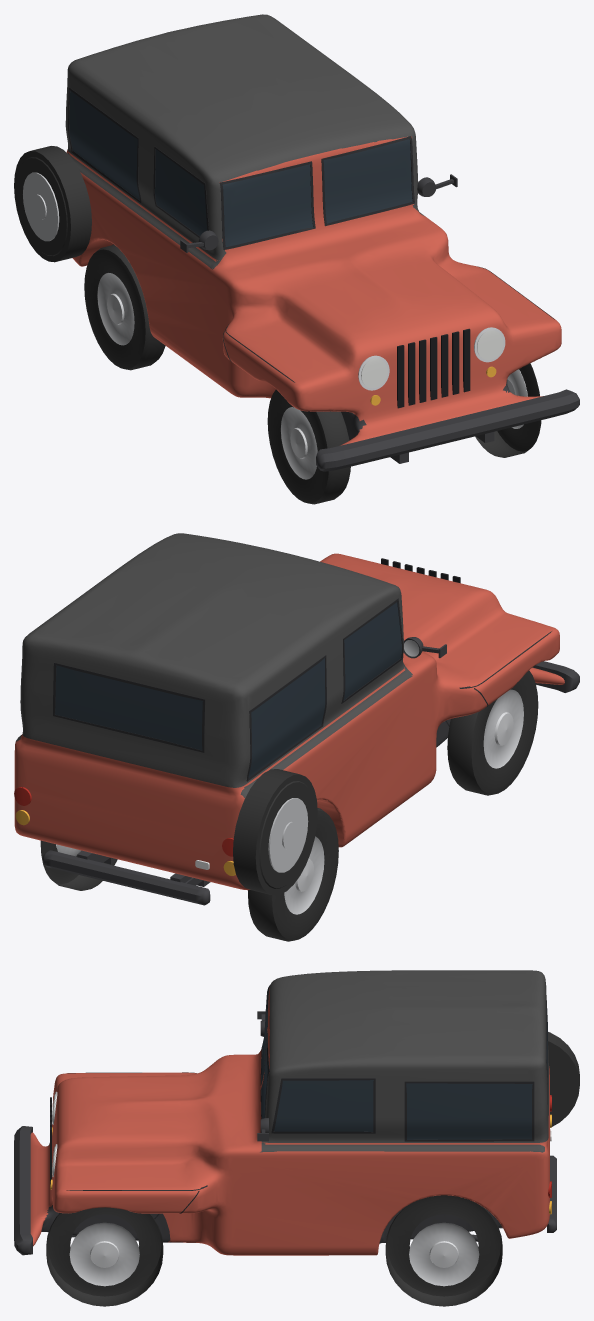
File: jeep.glb
The picture shows the model from 3 angles, top to bottom: view 1: azimuth 30°, elevation 25°; view 2: azimuth 150°, elevation 25°; view 3: azimuth 270°, elevation 25°; orthographic projection. The views are drawn at different scales.
Visible parts, largest first — view 1: paint, trim, glass, wheel_rr, wheel_fr, wheel_fl, headlights, mirrors; view 2: paint, trim, glass, wheel_fr, wheel_rr, wheel_rl, mirrors; view 3: paint, glass, wheel_rl, wheel_fl, trim.
Part boxes in pixels (x1,y1,x2,y2): paint: [65, 14, 561, 445]; trim: [14, 87, 579, 471]; glass: [69, 91, 412, 246]; wheel_rr: [84, 245, 165, 370]; wheel_fr: [267, 389, 350, 504]; wheel_fl: [475, 363, 541, 457]; headlights: [361, 330, 503, 388]; mirrors: [180, 174, 457, 252]; paint: [14, 533, 564, 890]; trim: [42, 558, 579, 905]; glass: [55, 602, 401, 777]; wheel_fr: [447, 670, 538, 795]; wheel_rr: [248, 808, 338, 941]; wheel_rl: [40, 840, 117, 890]; mirrors: [403, 637, 446, 658]; paint: [30, 970, 550, 1255]; glass: [261, 991, 547, 1139]; wheel_rl: [385, 1195, 502, 1306]; wheel_fl: [46, 1207, 163, 1306]; trim: [14, 985, 579, 1255].
Bounding box in the file's own units: 1.77 × 1.69 × 3.43.
